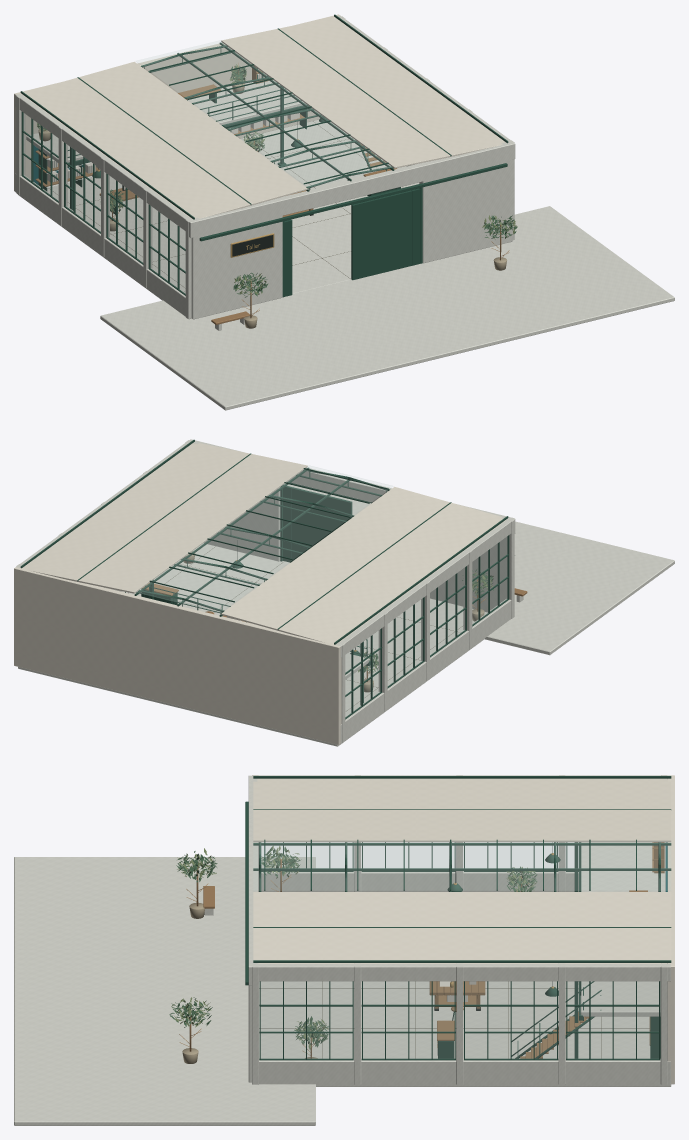
File: workshop-shell-v1.glb
The picture shows the model from 3 angles, top to bottom: view 1: azimuth 30°, elevation 25°; view 2: azimuth 150°, elevation 25°; view 3: azimuth 270°, elevation 25°; orthographic projection. The views are drawn at different scales.
Visible parts, largest first — view 1: shell__concrete, shell__plaster, shell__glass, shell__greensteel, shell__oak, shell__leaf, shell__paper, shell__leaflight, shell__ceramic, shell__graphite; view 2: shell__plaster, shell__concrete, shell__glass, shell__greensteel; view 3: shell__concrete, shell__plaster, shell__glass, shell__greensteel, shell__oak, shell__leaf, shell__leaflight, shell__soil.
Boxes of the visible parts, left/top/right/bottom form: shell__concrete: left=15, top=15, right=674, bottom=410; shell__plaster: left=14, top=14, right=505, bottom=218; shell__glass: left=23, top=40, right=392, bottom=293; shell__greensteel: left=20, top=14, right=508, bottom=297; shell__oak: left=35, top=63, right=509, bottom=324; shell__leaf: left=37, top=65, right=517, bottom=297; shell__paper: left=47, top=69, right=299, bottom=189; shell__leaflight: left=37, top=64, right=517, bottom=297; shell__ceramic: left=38, top=82, right=506, bottom=328; shell__graphite: left=98, top=122, right=399, bottom=256; shell__plaster: left=14, top=443, right=505, bottom=744; shell__concrete: left=16, top=439, right=674, bottom=746; shell__glass: left=136, top=466, right=507, bottom=716; shell__greensteel: left=20, top=439, right=509, bottom=719; shell__concrete: left=14, top=775, right=671, bottom=1125; shell__plaster: left=253, top=775, right=674, bottom=1084; shell__glass: left=253, top=841, right=670, bottom=1058; shell__greensteel: left=245, top=776, right=671, bottom=1060; shell__oak: left=179, top=842, right=664, bottom=1058; shell__leaf: left=169, top=846, right=578, bottom=1047; shell__leaflight: left=171, top=846, right=578, bottom=1049; shell__soil: left=259, top=981, right=649, bottom=1058.
Size of the model in its own units: 27 by 6.13 by 28.46.
Materials: 15 (3 with a texture image).
